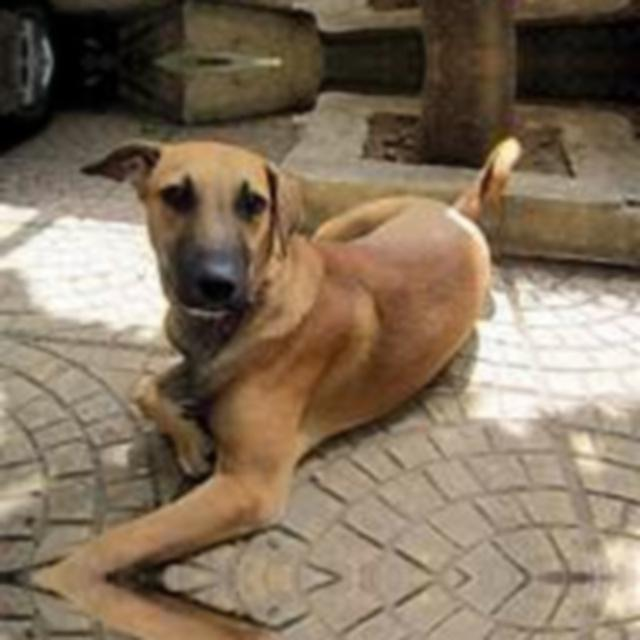dog: (25, 135, 499, 578), (25, 577, 499, 640)
